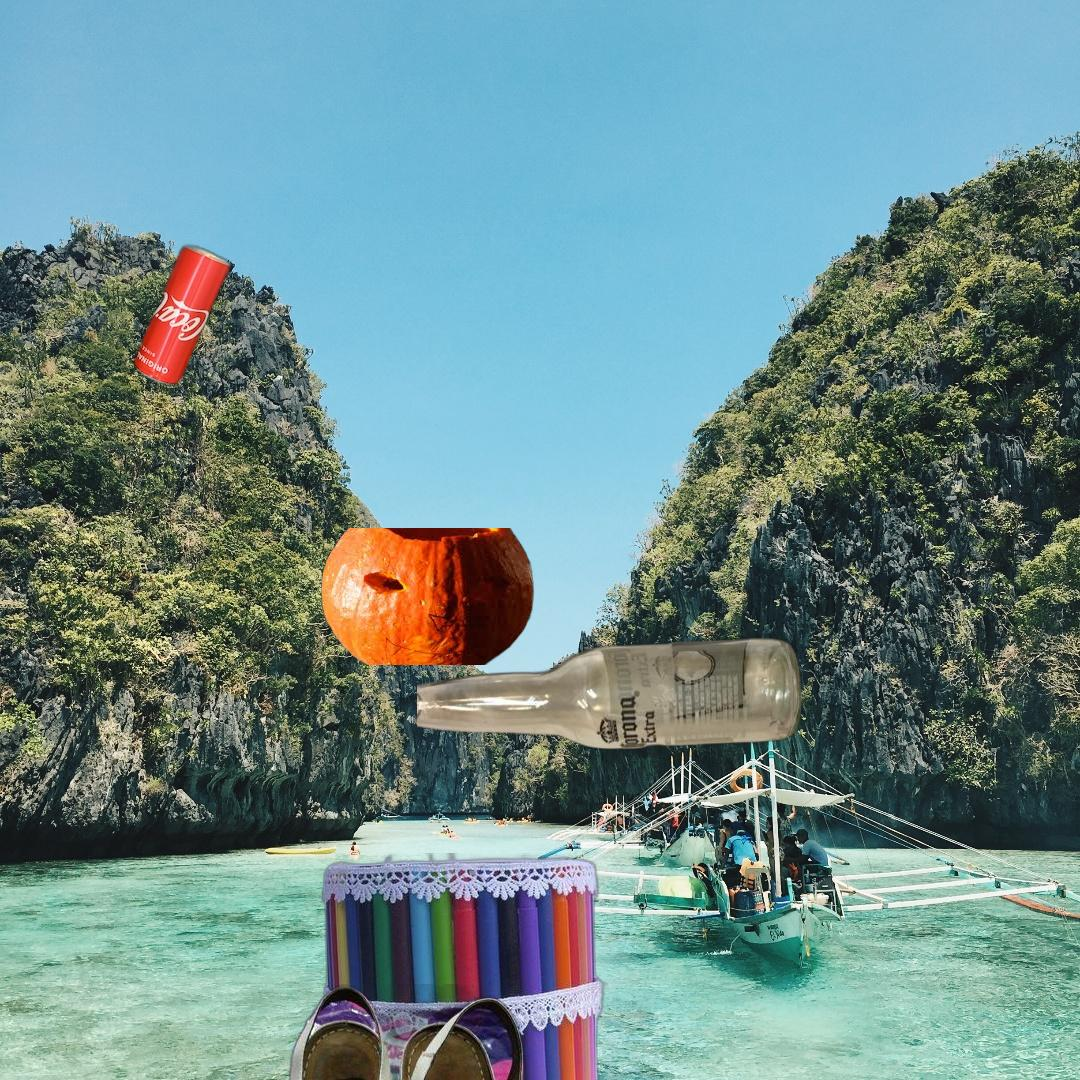biological: (318, 528, 536, 665)
clothes: (1013, 886, 1080, 1080)
glass: (417, 634, 806, 752)
metal-cans: (128, 239, 235, 391)
penholder: (318, 853, 611, 1080)
shoes: (251, 984, 549, 1080)
